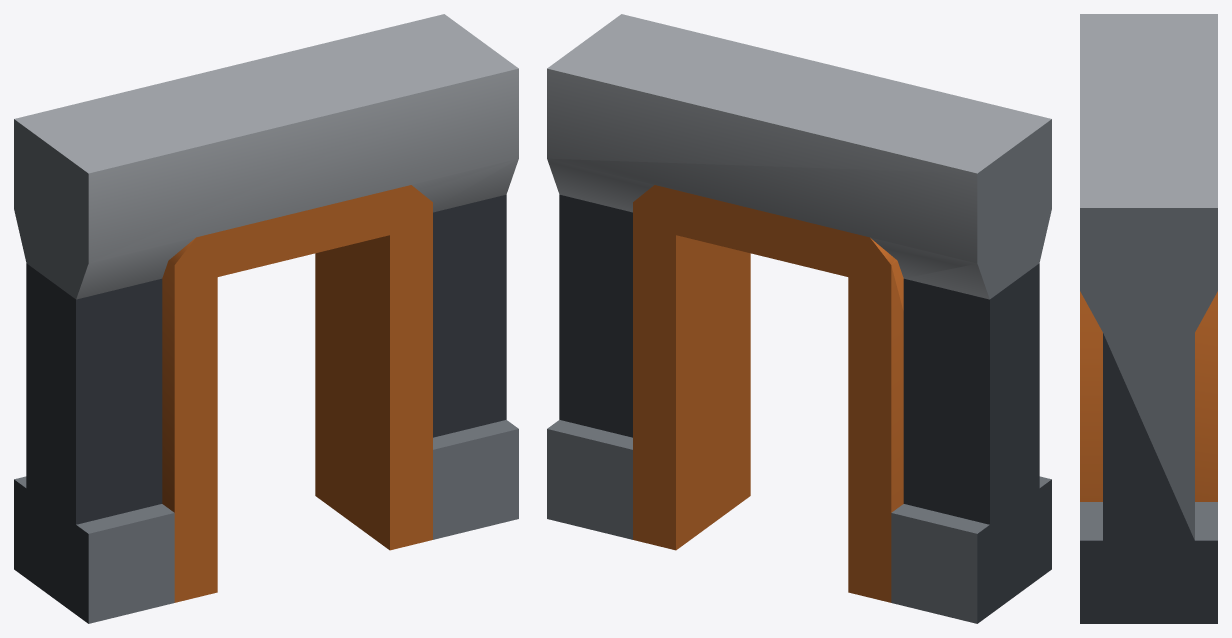
Rendered from Kit_wall-door.fbx.
3 views of the same model, side by side, from view 1: azimuth 30°, elevation 25°; view 2: azimuth 150°, elevation 25°; view 3: azimuth 270°, elevation 25° (orthographic). The views are drawn at different scales.
Parts seen in each view (by area): view 1: Kit_wall-door; view 2: Kit_wall-door; view 3: Kit_wall-door.
Boxes of the visible parts, <box> form: Kit_wall-door: <box>14,14,518,623</box>; Kit_wall-door: <box>547,14,1051,623</box>; Kit_wall-door: <box>1080,14,1217,623</box>.
Size of the model in its own units: 1 by 1 by 0.3.
